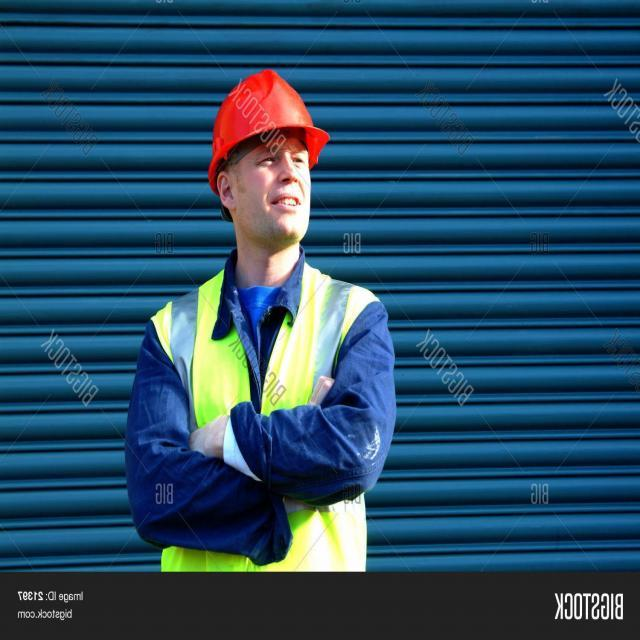reflective_jacket: (152, 265, 375, 573)
safety_helmet: (205, 66, 328, 172)
